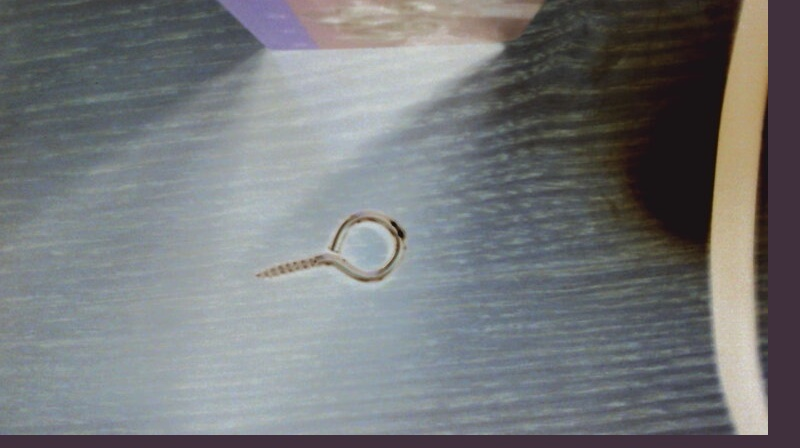O001: (251, 208, 411, 287)
